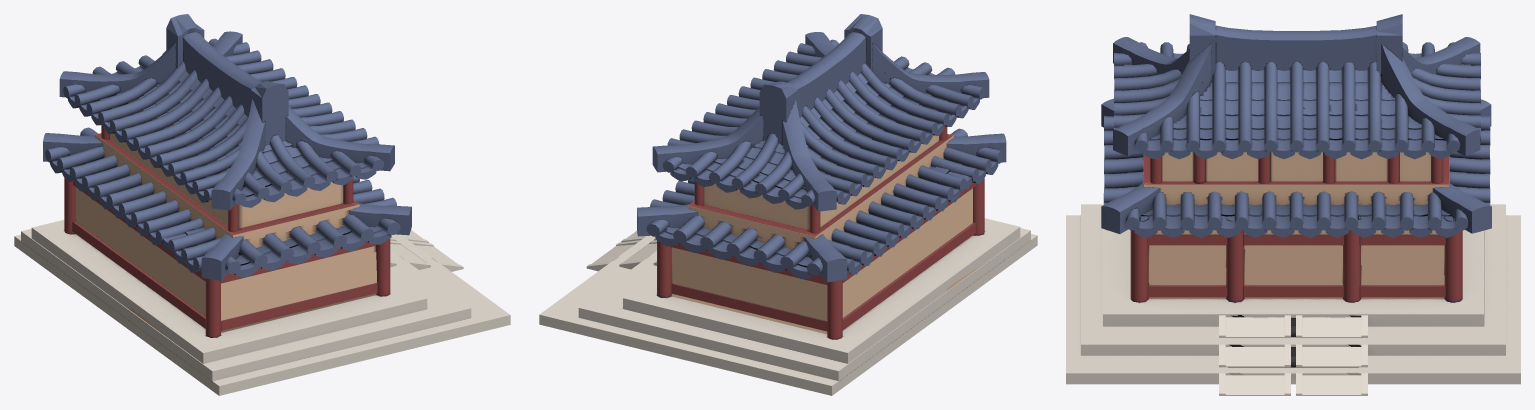
The model's file is CHang Duk Gung.glb.
3 renders of one model, left to right at view 1: azimuth 30°, elevation 25°; view 2: azimuth 150°, elevation 25°; view 3: azimuth 270°, elevation 25°, orthographic. The views are drawn at different scales.
Parts seen in each view (by area): view 1: Group025, Box067, Box065, Box064, Box066, Box063, Box062, Cylinder422, Cylinder419, Cylinder420, Cylinder421, Cylinder418 (+29 smaller); view 2: Group025, Box067, Box065, Box064, Box066, Box063, Box062, Cylinder418, Cylinder423, Cylinder419, Cylinder421, Cylinder420 (+30 smaller); view 3: Group025, Box067, Box065, Group024, Box064, Box063, Box066, Box062, Cylinder499, Cylinder498, Cylinder500, Cylinder439 (+34 smaller).
Boxes of the visible parts, bbox=[...] form: Group025: bbox=[14, 14, 510, 395]; Box067: bbox=[72, 181, 377, 332]; Box065: bbox=[95, 133, 359, 247]; Box064: bbox=[59, 31, 394, 210]; Box066: bbox=[43, 133, 411, 280]; Box063: bbox=[183, 39, 250, 116]; Box062: bbox=[183, 32, 261, 89]; Cylinder422: bbox=[156, 104, 244, 166]; Cylinder419: bbox=[121, 78, 209, 140]; Cylinder420: bbox=[133, 87, 221, 149]; Cylinder421: bbox=[145, 95, 232, 157]; Cylinder418: bbox=[110, 70, 197, 132]; Group025: bbox=[539, 14, 1037, 395]; Box067: bbox=[671, 182, 976, 334]; Box065: bbox=[688, 134, 953, 249]; Box064: bbox=[652, 32, 989, 211]; Box066: bbox=[637, 133, 1006, 282]; Box063: bbox=[798, 39, 865, 117]; Box062: bbox=[786, 32, 865, 90]; Cylinder418: bbox=[802, 106, 890, 168]; Cylinder423: bbox=[861, 63, 949, 125]; Cylinder419: bbox=[814, 97, 902, 159]; Cylinder421: bbox=[837, 80, 925, 142]; Cylinder420: bbox=[825, 88, 913, 151]; Group025: bbox=[1066, 14, 1520, 384]; Box067: bbox=[1147, 230, 1445, 298]; Box065: bbox=[1143, 152, 1449, 204]; Group024: bbox=[1219, 315, 1367, 395]; Box064: bbox=[1113, 37, 1480, 156]; Box063: bbox=[1215, 37, 1376, 70]; Box066: bbox=[1101, 98, 1491, 233]; Box062: bbox=[1215, 25, 1376, 42]; Cylinder499: bbox=[1130, 216, 1148, 302]; Cylinder498: bbox=[1444, 216, 1462, 302]; Cylinder500: bbox=[1226, 216, 1244, 302]; Cylinder439: bbox=[1264, 61, 1277, 152].
Size of the model in its own units: 0.91 by 0.6737 by 1.03.
1 material, 1 textured.
